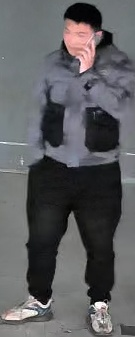phone: (68, 22, 131, 119)
